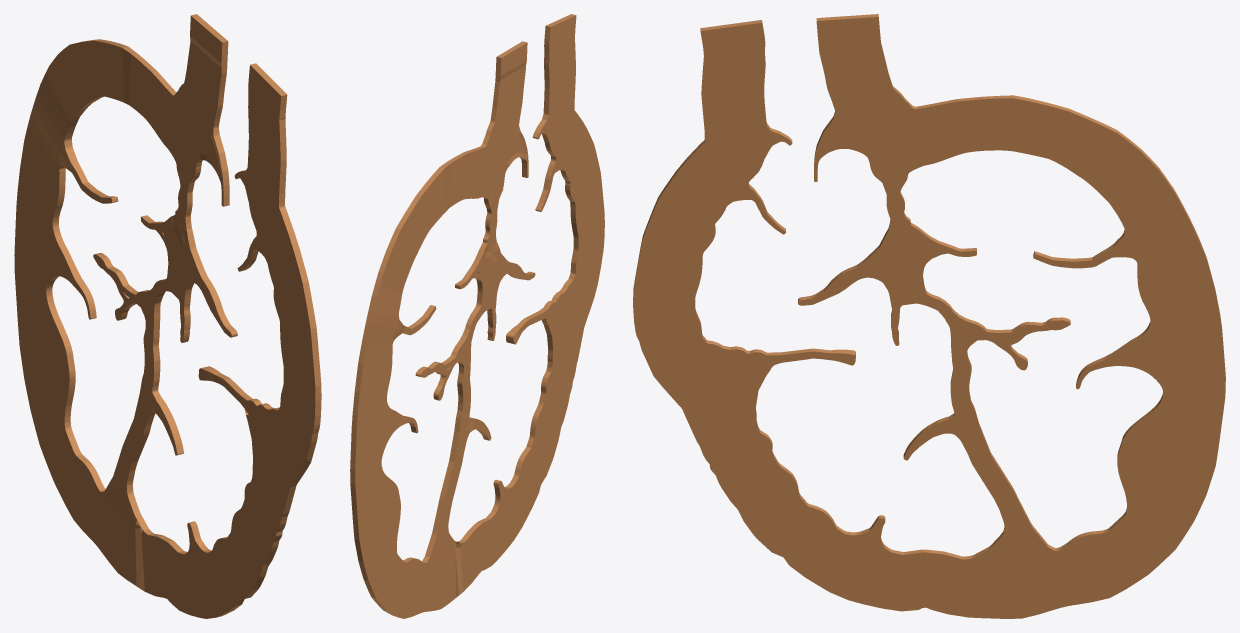
Rendered from Level v1.2.fbx.
3 views of the same model, side by side, from view 1: azimuth 30°, elevation 25°; view 2: azimuth 150°, elevation 25°; view 3: azimuth 270°, elevation 25° (orthographic). The views are drawn at different scales.
Parts seen in each view (by area): view 1: Plane.037; view 2: Plane.037; view 3: Plane.037.
Part boxes in pixels (x1=…): Plane.037: x1=14, y1=14, x2=321, y2=618; Plane.037: x1=350, y1=14, x2=604, y2=618; Plane.037: x1=633, y1=14, x2=1225, y2=618.
Size of the model in its own units: 81.01 by 4668 by 4166.
